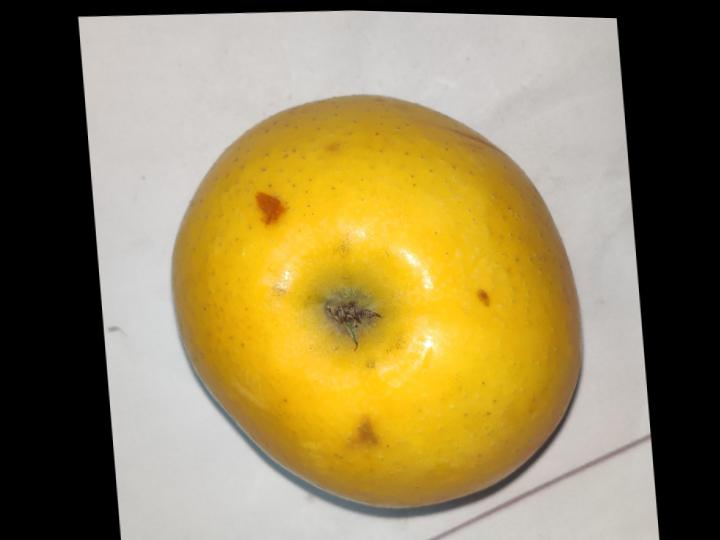apple: (171, 96, 579, 508)
surface_damage: (253, 192, 284, 226), (350, 419, 376, 446), (475, 290, 489, 307)
